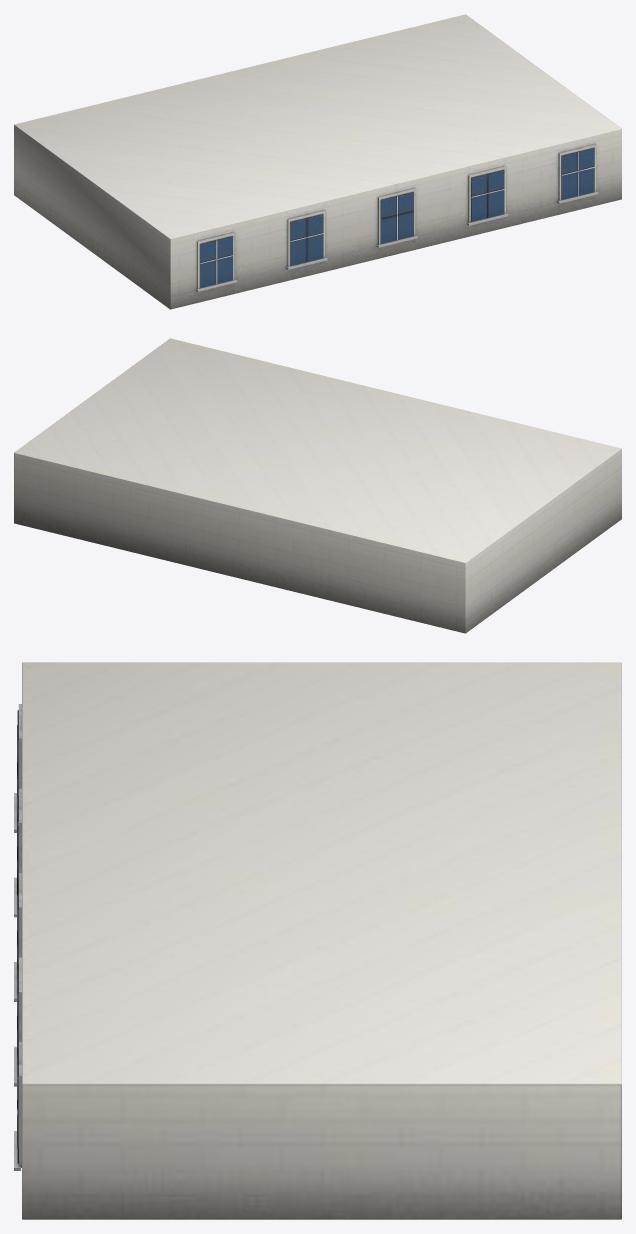
Rendered from planta_lisa.glb.
3 renders of one model, top to bottom at view 1: azimuth 30°, elevation 25°; view 2: azimuth 150°, elevation 25°; view 3: azimuth 270°, elevation 25°, orthographic. The views are drawn at different scales.
Visible parts, largest first — view 1: planta_lisa; view 2: planta_lisa; view 3: planta_lisa.
Boxes of the visible parts, x1,y1,x2,y2 form: planta_lisa: [14, 14, 621, 309]; planta_lisa: [14, 338, 621, 633]; planta_lisa: [14, 662, 621, 1219].
Size of the model in its own units: 20 by 3 by 12.16.
Materials: 1 (1 with a texture image).
